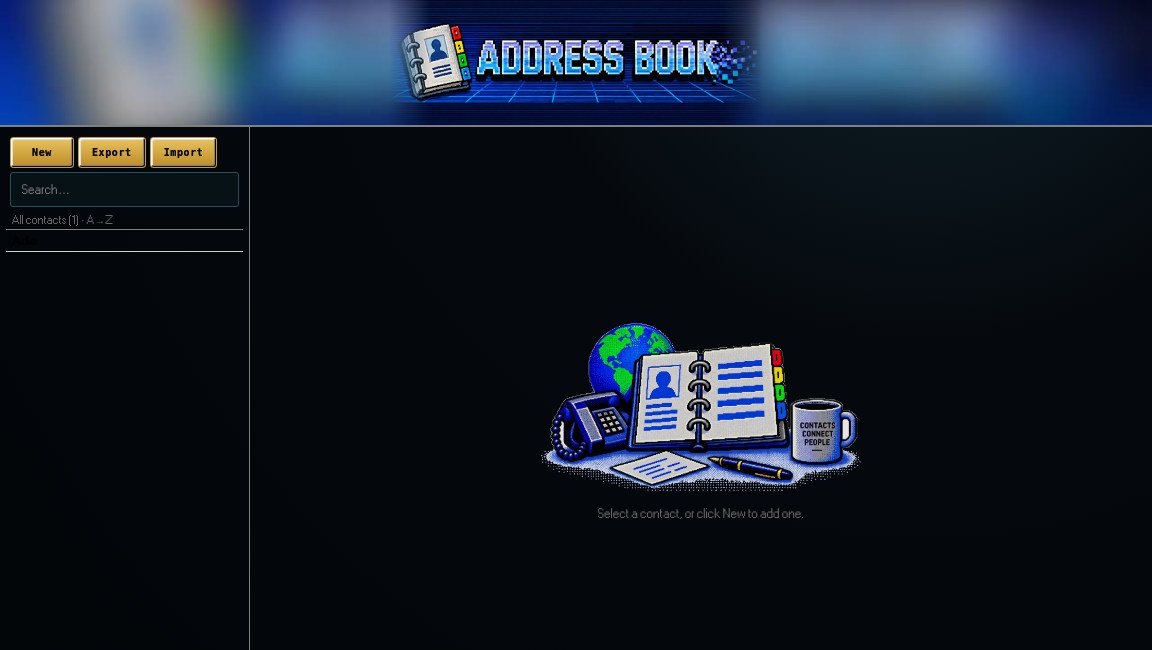
Test: the repeatable fields are locked until Edit is pressed › the +/- controls are disabled while locked, so a stray tap cannot remove an entry
Click the list item "Ada": click(124, 241) [6,230,243,252]
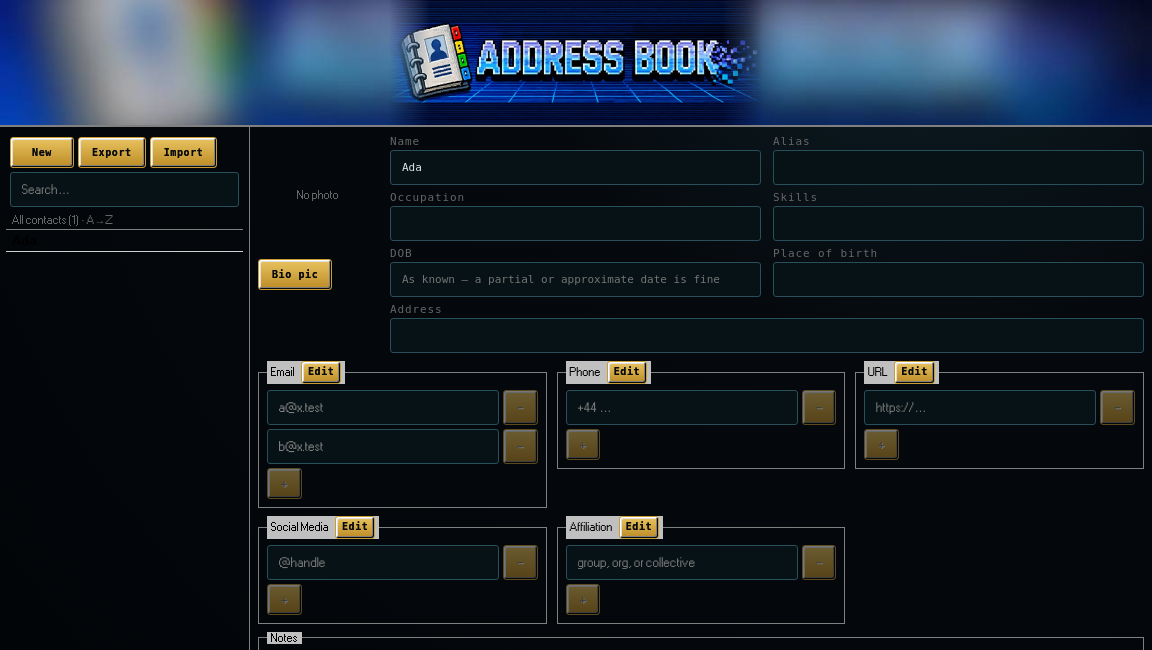
Now the 1st button "−" is disabled, box [503,390,538,425]
